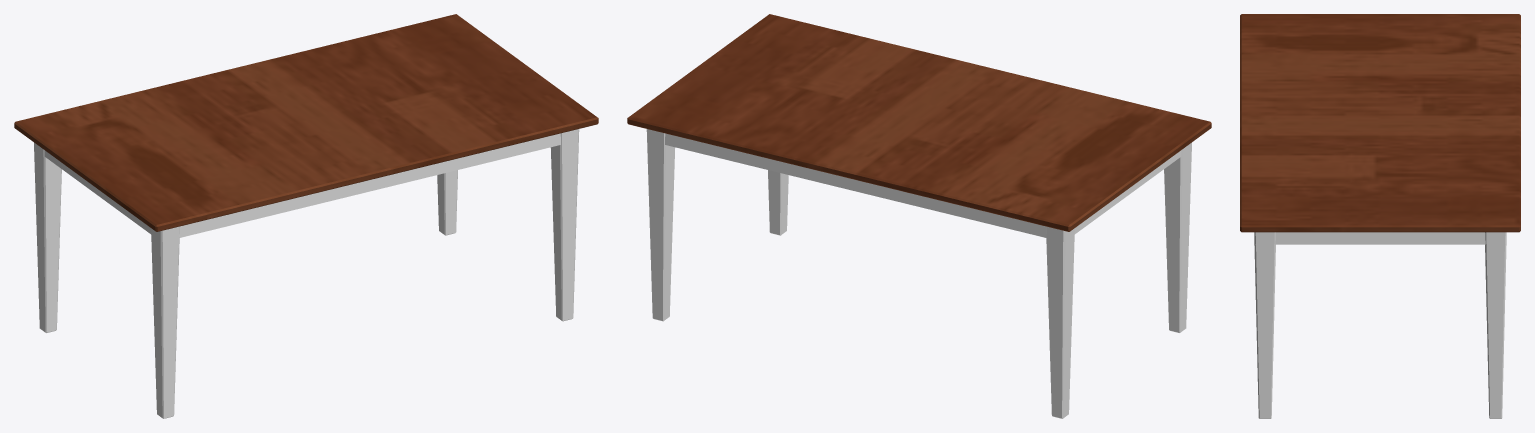
Rendered from table_long.glb.
The picture shows the model from 3 angles, left to right: view 1: azimuth 30°, elevation 25°; view 2: azimuth 150°, elevation 25°; view 3: azimuth 270°, elevation 25°; orthographic projection.
Parts seen in each view (by area): view 1: dining_table_208; view 2: dining_table_208; view 3: dining_table_208.
Part boxes in pixels (<box>): dining_table_208: <box>14,14,598,418</box>; dining_table_208: <box>627,14,1211,418</box>; dining_table_208: <box>1240,14,1520,418</box>.
Bounding box in the file's own units: 1.77 × 0.7819 × 0.9882.
Materials: 2 (1 with a texture image).
